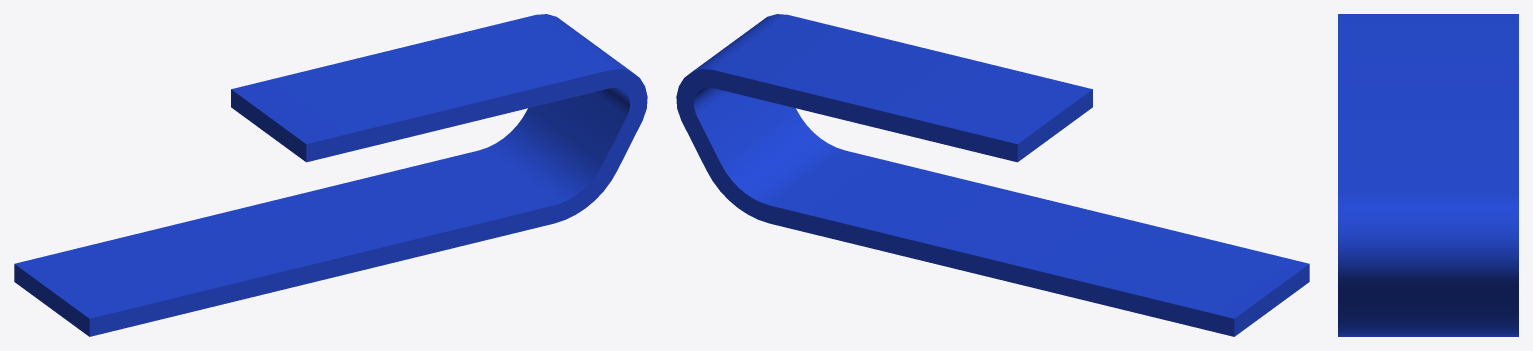
The picture shows the model from 3 angles, left to right: view 1: azimuth 30°, elevation 25°; view 2: azimuth 150°, elevation 25°; view 3: azimuth 270°, elevation 25°; orthographic projection. The views are drawn at different scales.
Parts seen in each view (by area): view 1: SM_277; view 2: SM_277; view 3: SM_277.
Part boxes in pixels (x1,y1,x2,y2): SM_277: (14,14,647,336); SM_277: (676,14,1309,336); SM_277: (1338,14,1518,336).
Size of the model in its own units: 1.93 by 0.4617 by 0.45.
